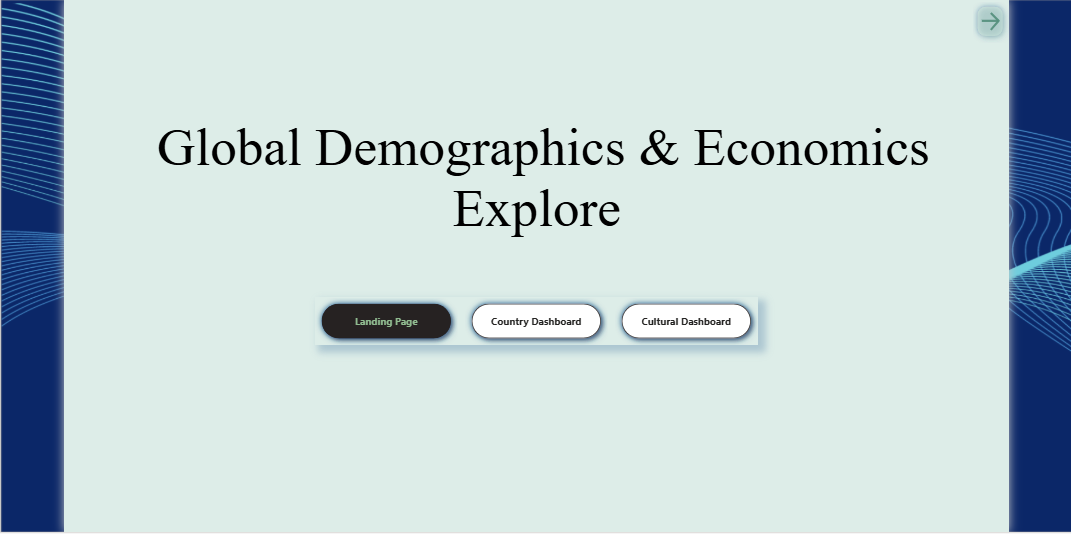

What the dashboard file says about the page in this screenshot:
{"tool":"powerbi","page":{"name":"Landing Page","canvas":[1280,720],"ordinal":0},"visuals":[{"type":"textbox","box":[0,0,1279.5,720],"z":0},{"type":"pageNavigator","box":[339.8,401.9,600,65.1],"z":1000},{"type":"actionButton","box":[1227.5,0,52,57.8],"z":2000}]}

Visuals, with their boxes on the page's 1280x720 design canvas (x1, y1, x2, y2). These are canvas units, not pixel positions in the 1071x534 screenshot, which may show the page scaled, cropped or inside an application window:
textbox: Rect(0, 0, 1280, 720)
pageNavigator: Rect(340, 402, 940, 467)
actionButton: Rect(1228, 0, 1280, 58)
